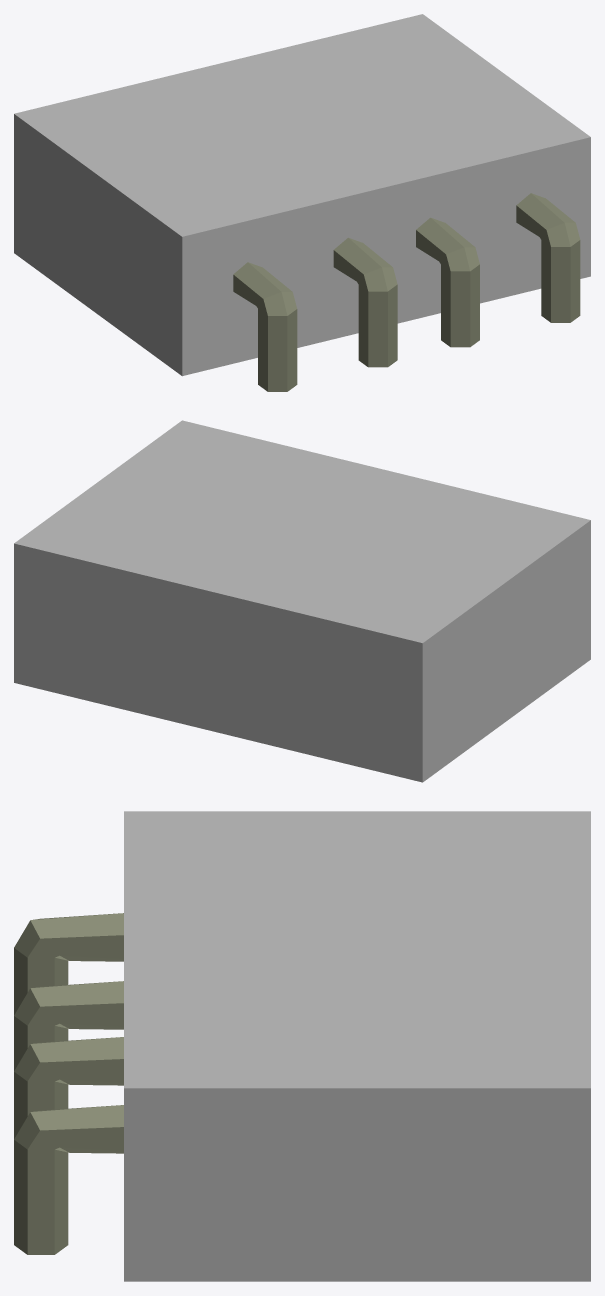
File: Props_Roof_prop_air.glb
3 views of the same model, one above another, from view 1: azimuth 30°, elevation 25°; view 2: azimuth 150°, elevation 25°; view 3: azimuth 270°, elevation 25° (orthographic). The views are drawn at different scales.
Visible parts, largest first — view 1: Props_Roof_prop; view 2: Props_Roof_prop; view 3: Props_Roof_prop.
Boxes of the visible parts, bbox=[...] form: Props_Roof_prop: bbox=[14, 14, 590, 391]; Props_Roof_prop: bbox=[14, 420, 590, 782]; Props_Roof_prop: bbox=[14, 811, 590, 1281].
Bounding box in the file's own units: 3.07 × 1.02 × 2.7.
Materials: 1 (1 with a texture image).
